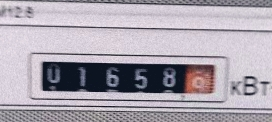0: (44, 62, 61, 83)
1: (74, 63, 88, 87)
5: (132, 65, 148, 90)
6: (103, 64, 121, 88)
8: (160, 66, 177, 88)
9: (189, 74, 205, 95)
screen: (25, 48, 231, 107)
